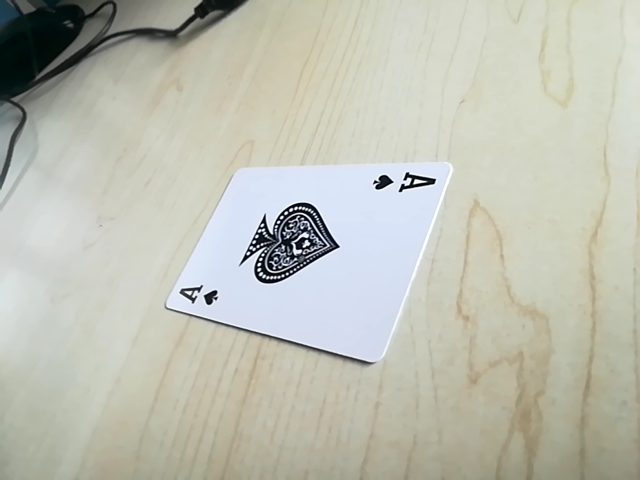ht a: (367, 165, 439, 199), (167, 281, 226, 313)
